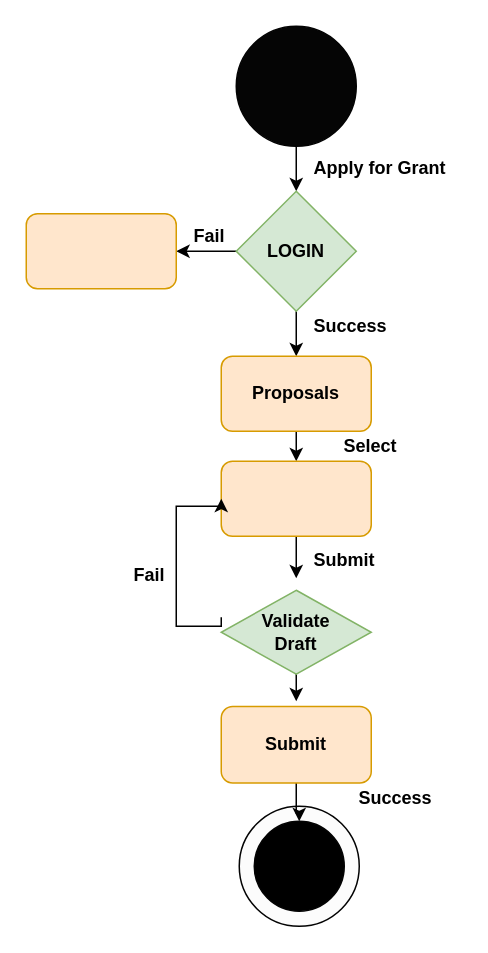
Image size: 488x953. Some labels were removed from this diagram. Here are the shapes that lost their labels. From the top down, the box of each, then its label:
(25, 212, 176, 289): Contact Administrator
(220, 460, 371, 536): Create a draft
